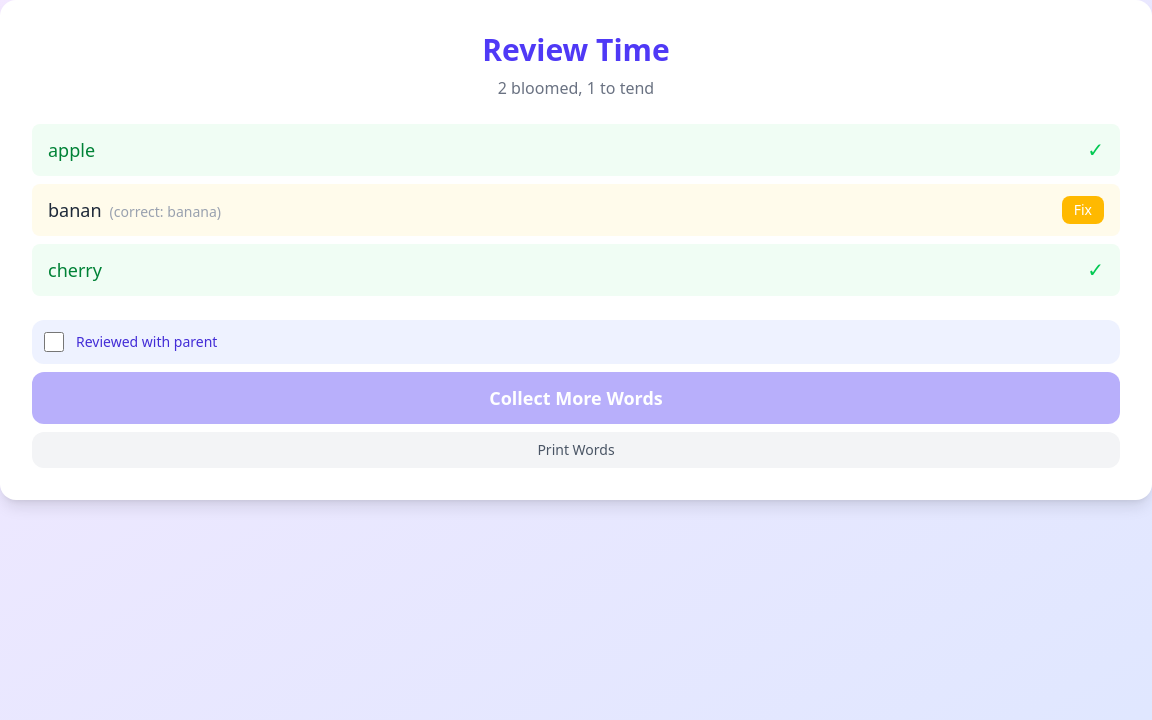
Test: Complete (Review Mode) › opens a fix input when Fix is clicked
Click the button "Fix": (1083, 210) [1062,196,1104,224]
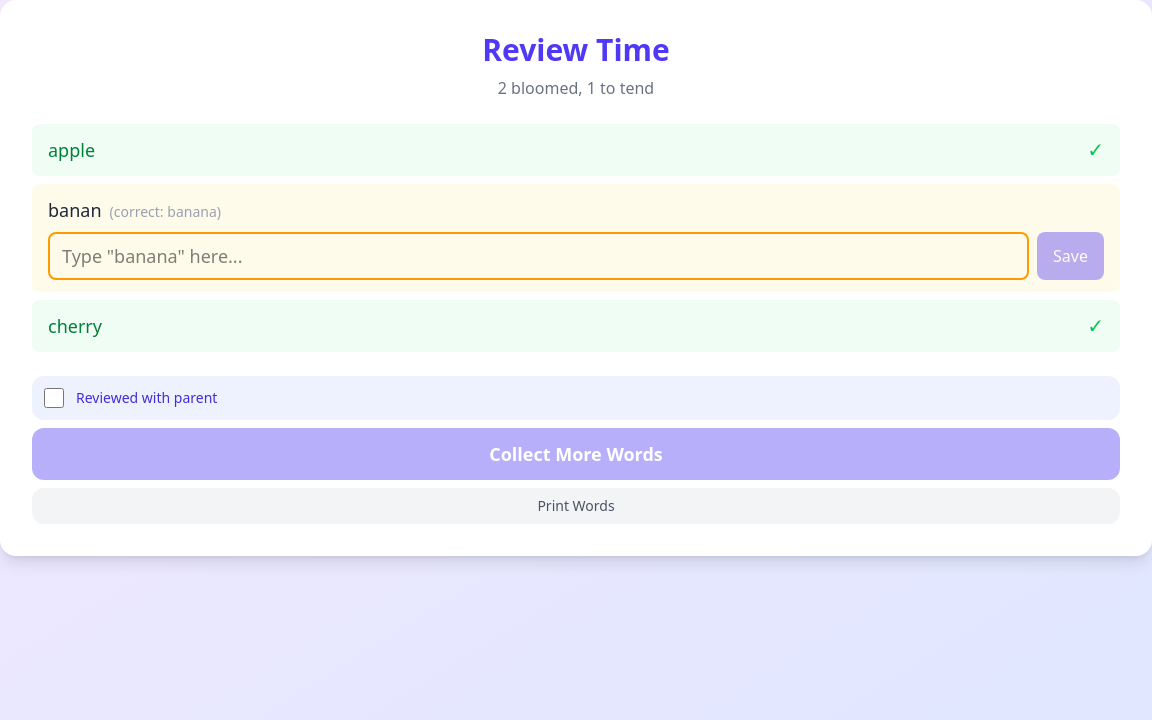
Now the field with placeholder "Type \"banana\" here..." is shown, box [48,232,1029,280]
